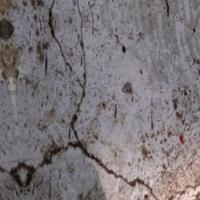crack: (23, 0, 160, 199)
